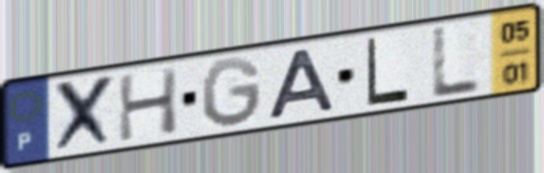A: (266, 45, 340, 122)
G: (198, 55, 265, 130)
H: (115, 64, 181, 145)
L: (428, 23, 485, 102), (364, 34, 412, 109)
X: (50, 71, 118, 157)
